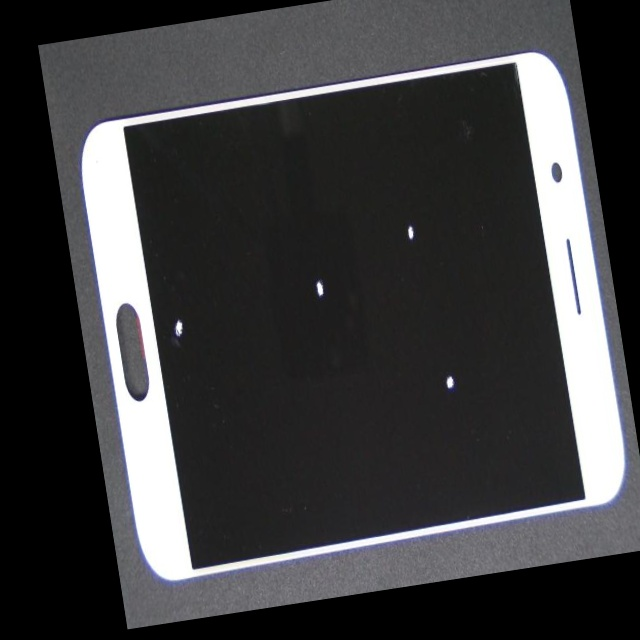stain: (243, 102, 640, 570), (238, 107, 609, 364), (171, 88, 444, 429), (128, 182, 264, 465)
